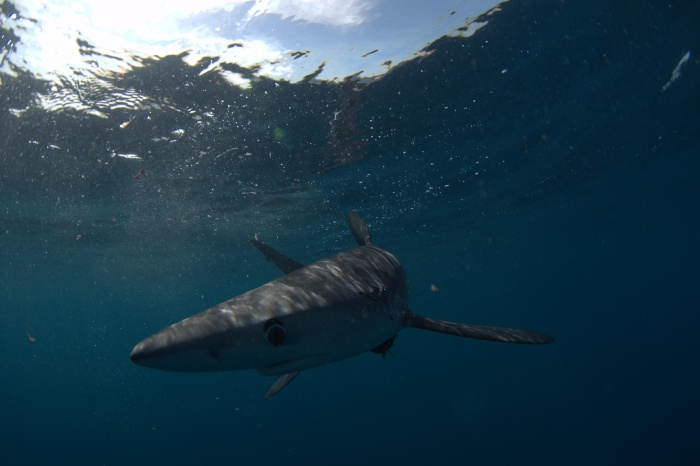Azul: (110, 210, 570, 386)
